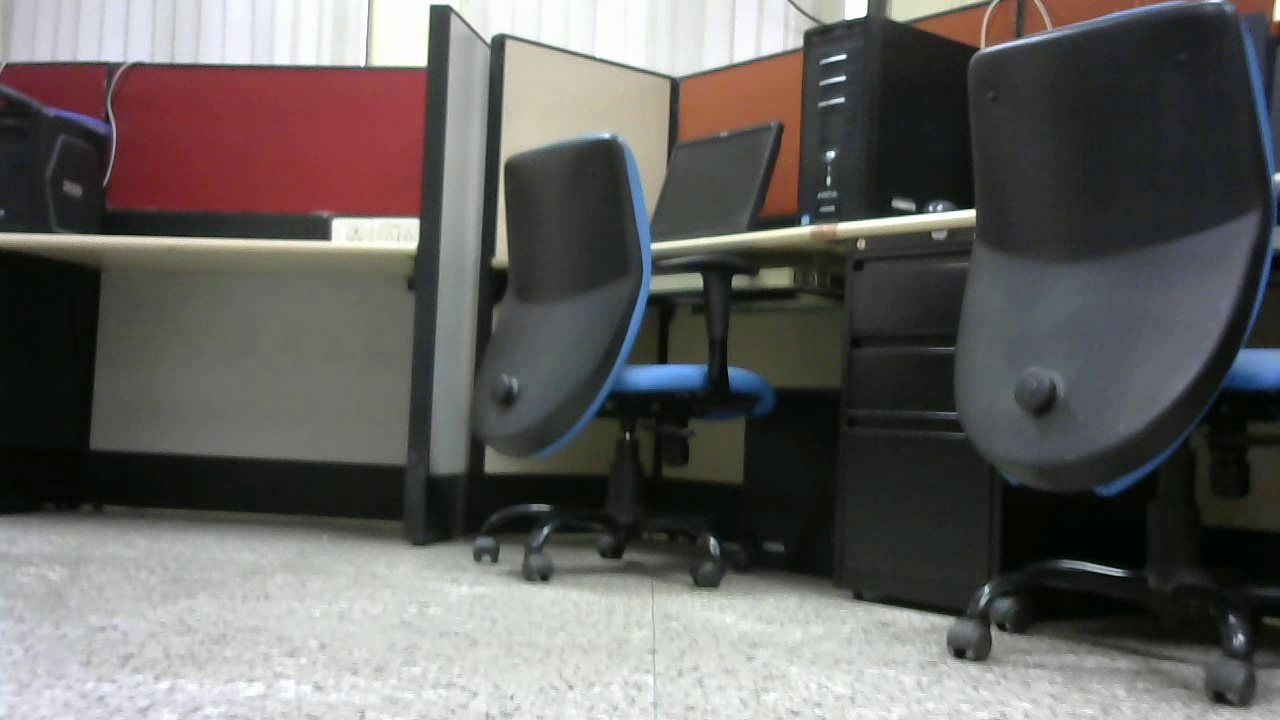chair: (931, 5, 1276, 720), (467, 131, 780, 598)
